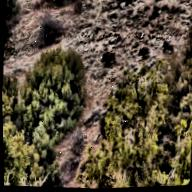boar: (95, 43, 120, 70), (157, 32, 171, 61), (138, 41, 149, 60)
